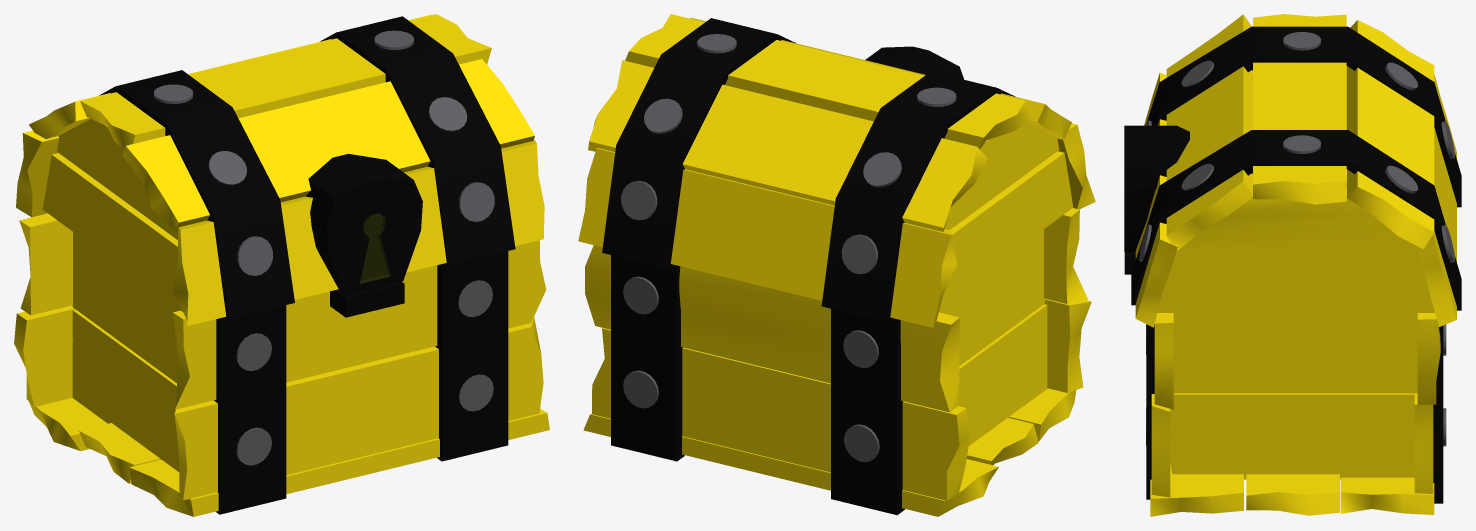
File: finalChest.fbx
3 renders of one model, left to right at view 1: azimuth 30°, elevation 25°; view 2: azimuth 150°, elevation 25°; view 3: azimuth 270°, elevation 25°, orthographic. The views are drawn at different scales.
Parts seen in each view (by area): view 1: Box017; view 2: Box017; view 3: Box017.
Boxes of the visible parts, box(x1,y1,x2,y2) form: Box017: box(14, 14, 549, 516); Box017: box(578, 14, 1095, 516); Box017: box(1124, 14, 1461, 516).
Size of the model in its own units: 69.4 by 60.9 by 54.06.
